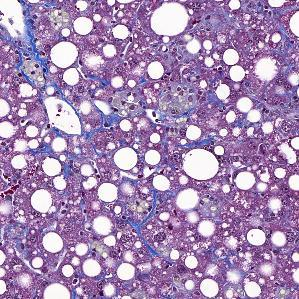fibrosis: (89, 97, 189, 149)
